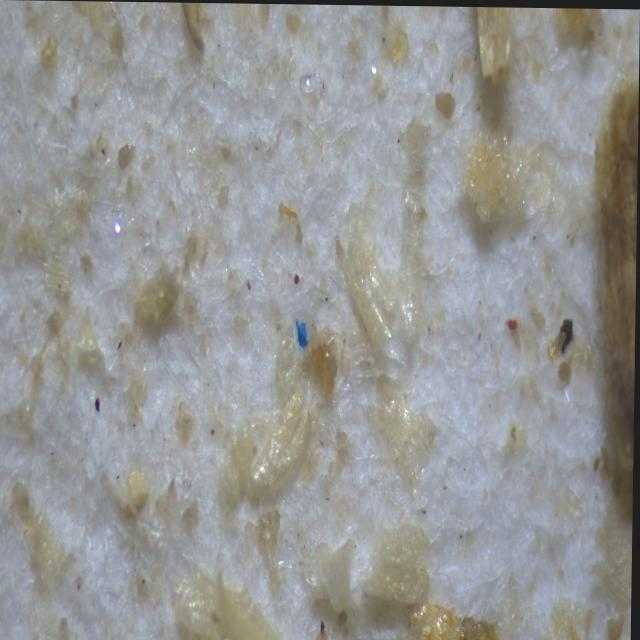microplastic: (295, 316, 312, 348)
